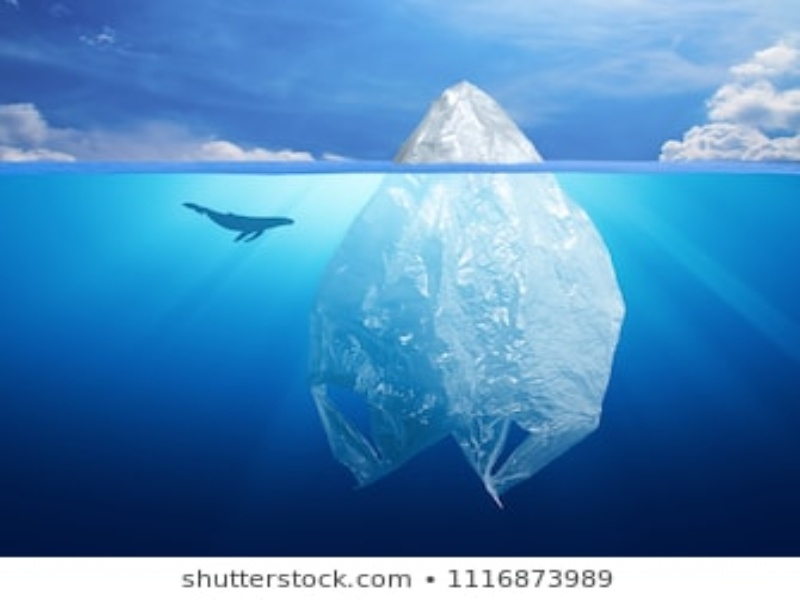plastic-bag: (305, 78, 628, 504)
